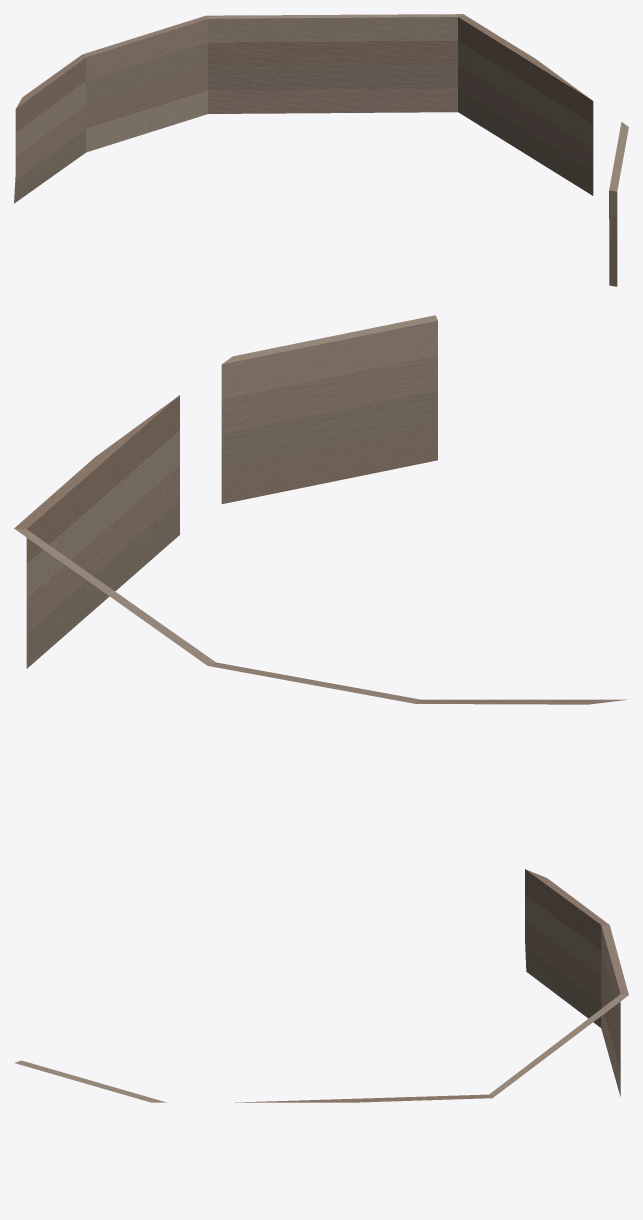
Rendered from kd_stage_135fe0_5_62_bounded.glb.
The picture shows the model from 3 angles, top to bottom: view 1: azimuth 30°, elevation 25°; view 2: azimuth 150°, elevation 25°; view 3: azimuth 270°, elevation 25°; orthographic projection. The views are drawn at different scales.
Visible parts, largest first — view 1: kd_stage_135fe0_5_62_bounded; view 2: kd_stage_135fe0_5_62_bounded; view 3: kd_stage_135fe0_5_62_bounded.
Part boxes in pixels (x1,y1,x2,y2): kd_stage_135fe0_5_62_bounded: (14,14,628,286); kd_stage_135fe0_5_62_bounded: (14,315,627,704); kd_stage_135fe0_5_62_bounded: (15,869,628,1102).
Bounding box in the file's own units: 2.19 × 0.4499 × 2.43.
1 material, 1 textured.
